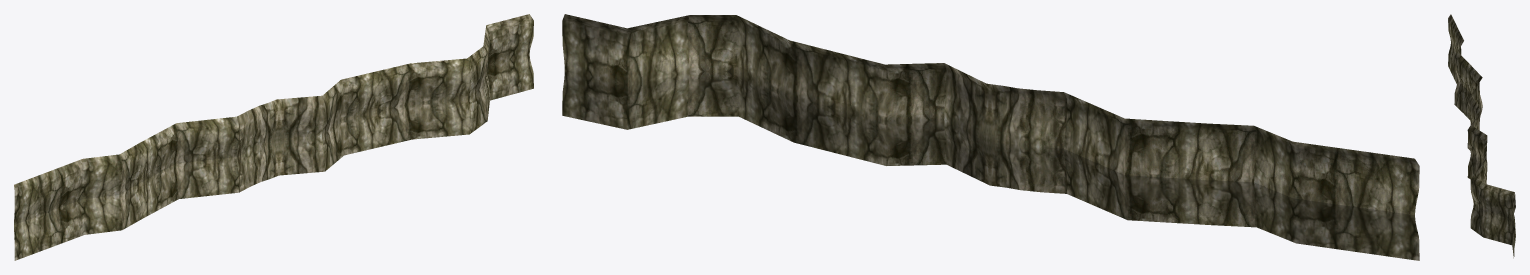
File: CB_NEWPLAYSURFACE_CB_PLAYSURFACE38.fbx
The picture shows the model from 3 angles, left to right: view 1: azimuth 30°, elevation 25°; view 2: azimuth 150°, elevation 25°; view 3: azimuth 270°, elevation 25°; orthographic projection. The views are drawn at different scales.
Parts seen in each view (by area): view 1: CB_NEWPLAYSURFACE_CB_PLAYSURFACE38; view 2: CB_NEWPLAYSURFACE_CB_PLAYSURFACE38; view 3: CB_NEWPLAYSURFACE_CB_PLAYSURFACE38.
Boxes of the visible parts, <box> form: CB_NEWPLAYSURFACE_CB_PLAYSURFACE38: <box>14,14,533,260</box>; CB_NEWPLAYSURFACE_CB_PLAYSURFACE38: <box>562,14,1419,260</box>; CB_NEWPLAYSURFACE_CB_PLAYSURFACE38: <box>1448,14,1515,258</box>.
Size of the model in its own units: 585072 by 73541 by 86164.
Materials: 1 (1 with a texture image).
